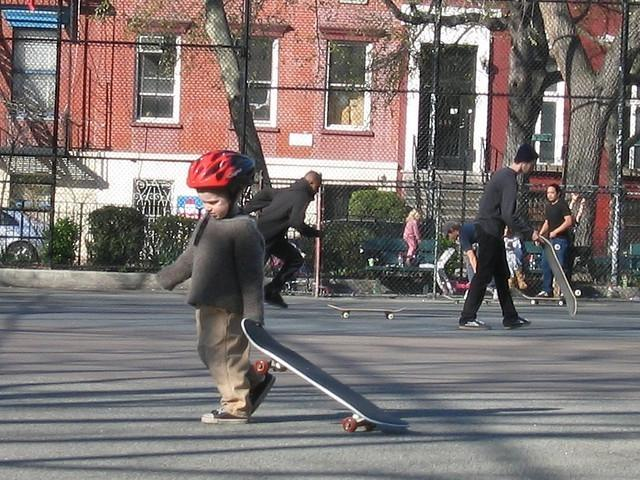car: (0, 211, 51, 262), (362, 236, 404, 265)
